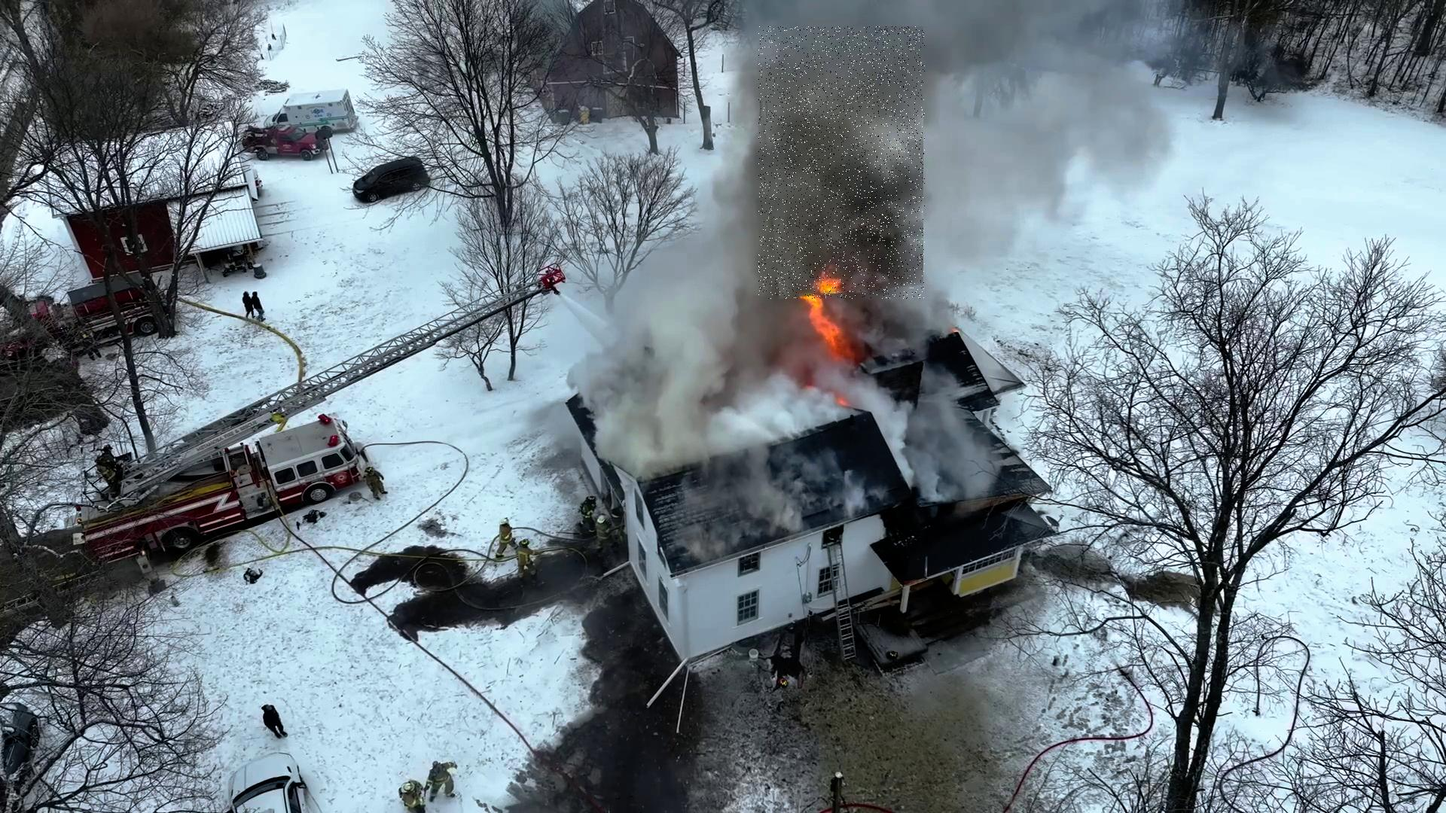smoke: (759, 26, 926, 299)
